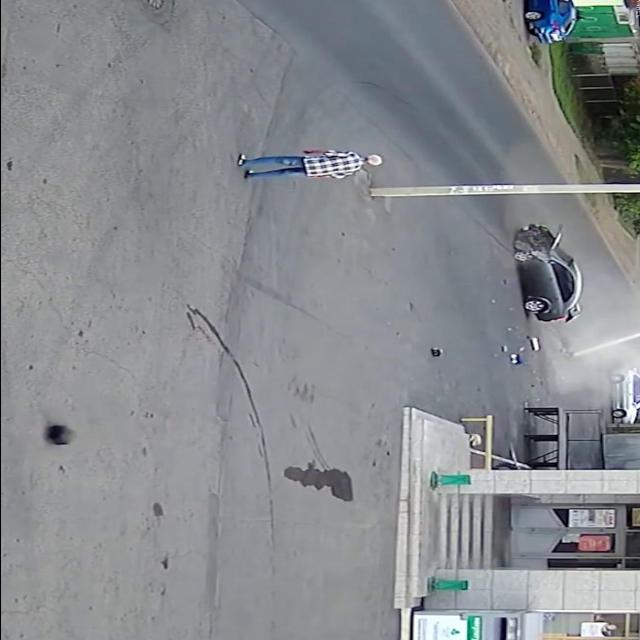accident: (481, 218, 595, 370)
